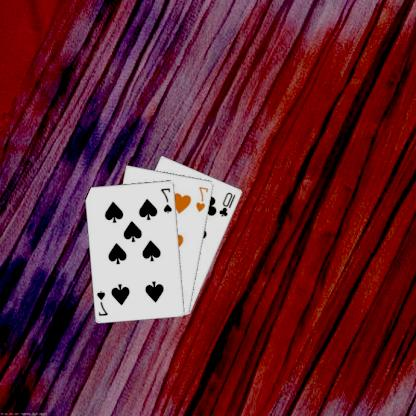10C: (218, 190, 239, 218)
7H: (195, 184, 212, 213)
7S: (160, 185, 175, 214), (96, 288, 111, 317)
